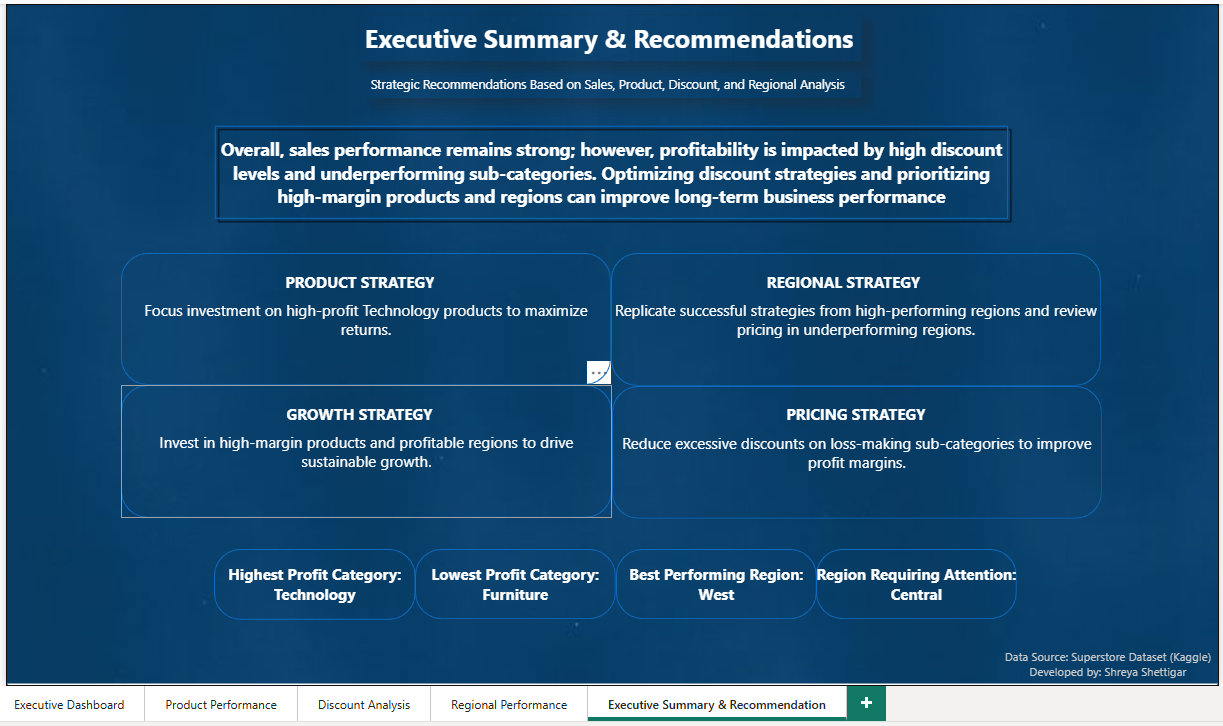

Layout of this report page (visuals, bound fields, positions):
{"tool":"powerbi","page":{"name":"Executive Summary & Recommendation","canvas":[1280,720],"ordinal":4},"visuals":[{"type":"shape","box":[1047.3,673.5,232.3,46.5],"z":0},{"type":"textbox","box":[373.7,12.5,529.7,46.7],"z":1000},{"type":"textbox","box":[380.5,70.6,522.9,28.5],"z":2000},{"type":"shape","box":[121.9,402.2,518.4,140.1],"z":3000},{"type":"shape","box":[640.3,403.3,517.2,140.1],"z":4000},{"type":"shape","box":[638.7,262.9,517.3,140.4],"z":5000},{"type":"shape","box":[215.3,123,847.6,108.2],"z":6000},{"type":"shape","box":[121.4,262.9,517.3,139.4],"z":7000},{"type":"shape","box":[288.2,262.9,171,60.2],"z":8000},{"type":"shape","box":[800.2,262.9,167.9,60.2],"z":9000},{"type":"shape","box":[294.5,402.2,157.3,60.2],"z":10000},{"type":"shape","box":[814,402.2,166.8,60.2],"z":11000},{"type":"shape","box":[219.6,574.9,212.8,74.7],"z":12000},{"type":"shape","box":[431.8,575.3,211.9,74.1],"z":13000},{"type":"shape","box":[643.7,575.3,211.9,74.1],"z":14000},{"type":"shape","box":[855.6,575.3,211.9,74.1],"z":15000}]}

Visuals, with their boxes on the page's 1280x720 design canvas (x1, y1, x2, y2). These are canvas units, not pixel positions in the 1223x726 screenshot, which may show the page scaled, cropped or inside an application window:
shape: x1=1047, y1=674, x2=1280, y2=720
textbox: x1=374, y1=12, x2=903, y2=59
textbox: x1=380, y1=71, x2=903, y2=99
shape: x1=122, y1=402, x2=640, y2=542
shape: x1=640, y1=403, x2=1158, y2=543
shape: x1=639, y1=263, x2=1156, y2=403
shape: x1=215, y1=123, x2=1063, y2=231
shape: x1=121, y1=263, x2=639, y2=402
shape: x1=288, y1=263, x2=459, y2=323
shape: x1=800, y1=263, x2=968, y2=323
shape: x1=294, y1=402, x2=452, y2=462
shape: x1=814, y1=402, x2=981, y2=462
shape: x1=220, y1=575, x2=432, y2=650
shape: x1=432, y1=575, x2=644, y2=649
shape: x1=644, y1=575, x2=856, y2=649
shape: x1=856, y1=575, x2=1068, y2=649
